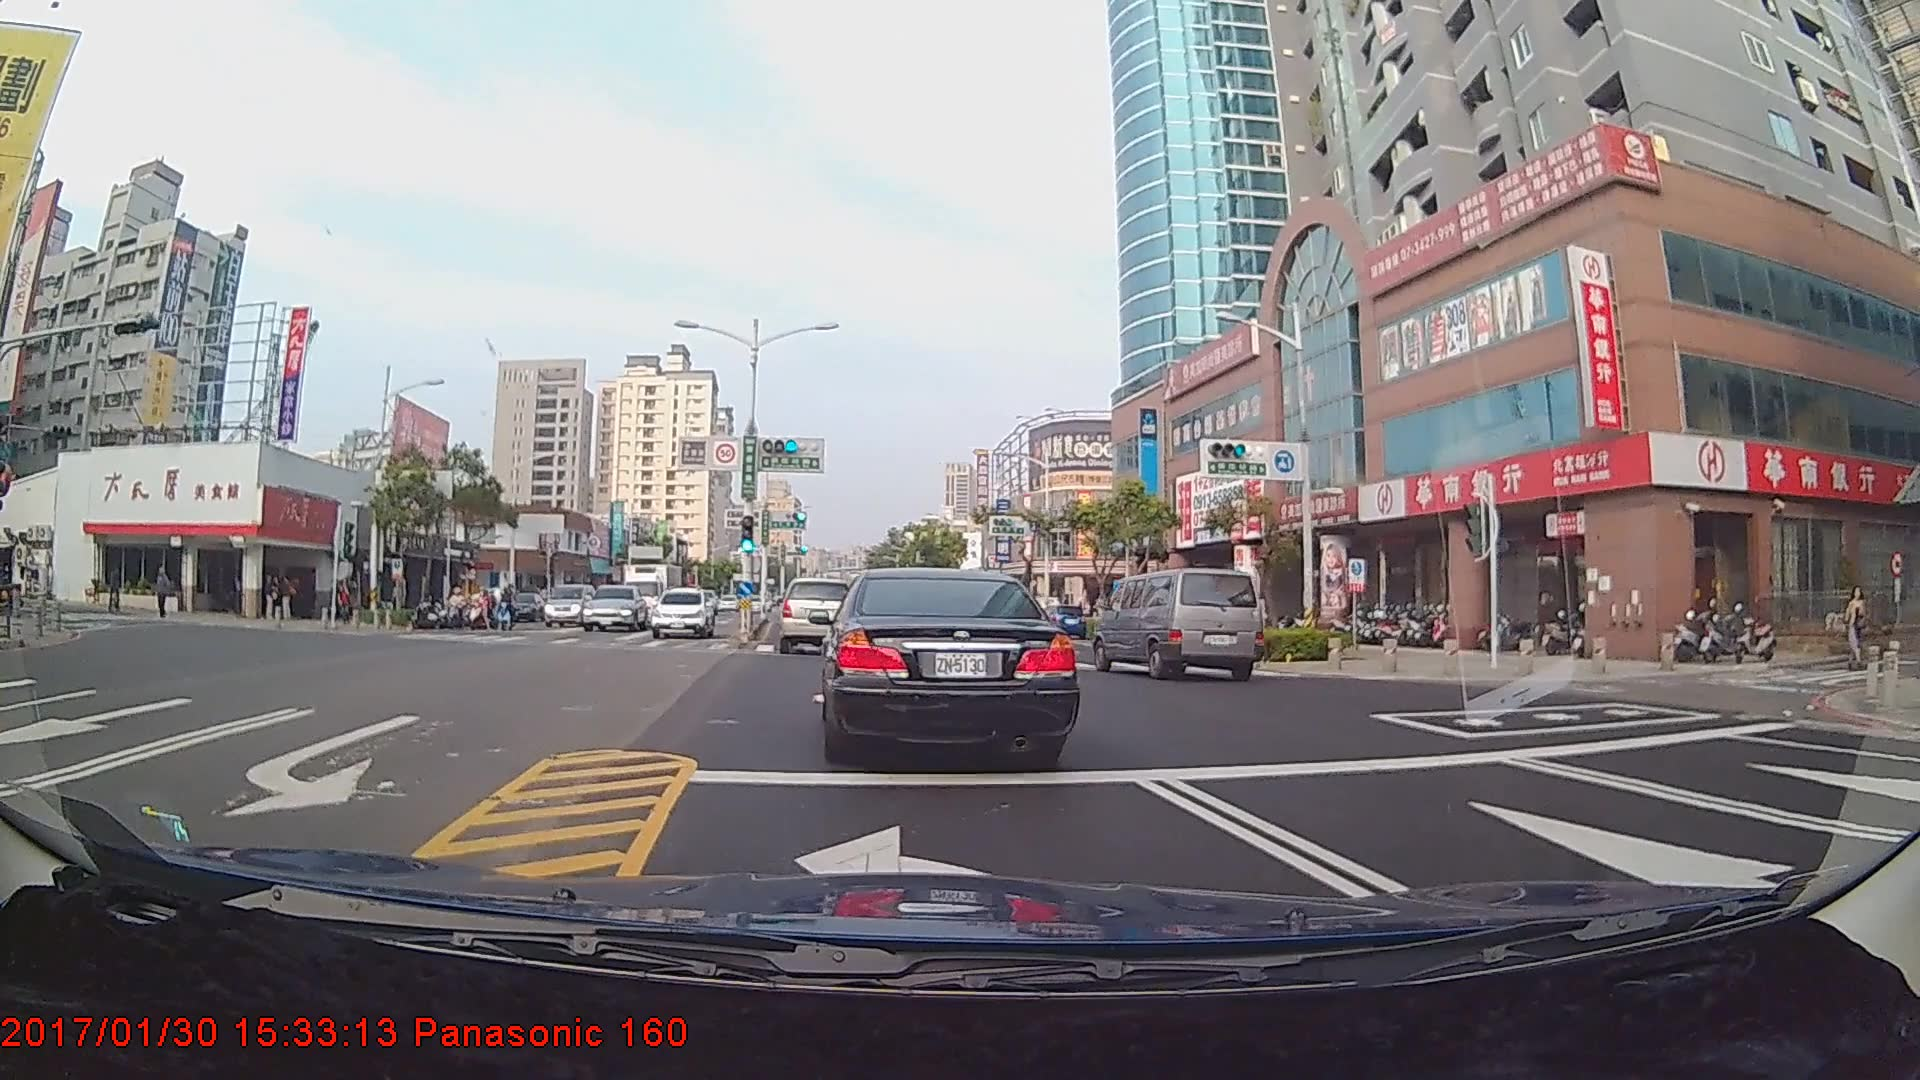pedestrian: (1843, 588, 1869, 663), (151, 567, 171, 617), (265, 573, 285, 624), (279, 575, 299, 623)
vehicle: (817, 567, 1072, 758), (1100, 564, 1259, 681), (781, 578, 859, 655), (621, 556, 684, 629), (651, 586, 716, 639), (583, 584, 650, 633), (545, 581, 600, 627), (1033, 602, 1084, 642)
